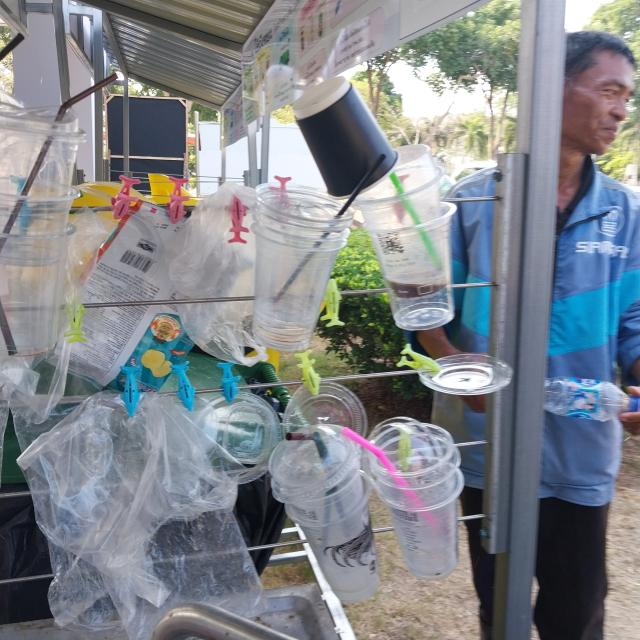Single-layer Plastic: (19, 392, 262, 640), (165, 182, 268, 366)
